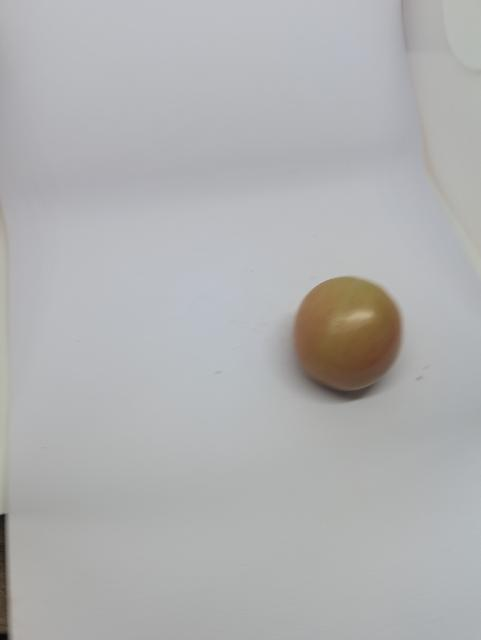turning: (287, 268, 411, 408)
